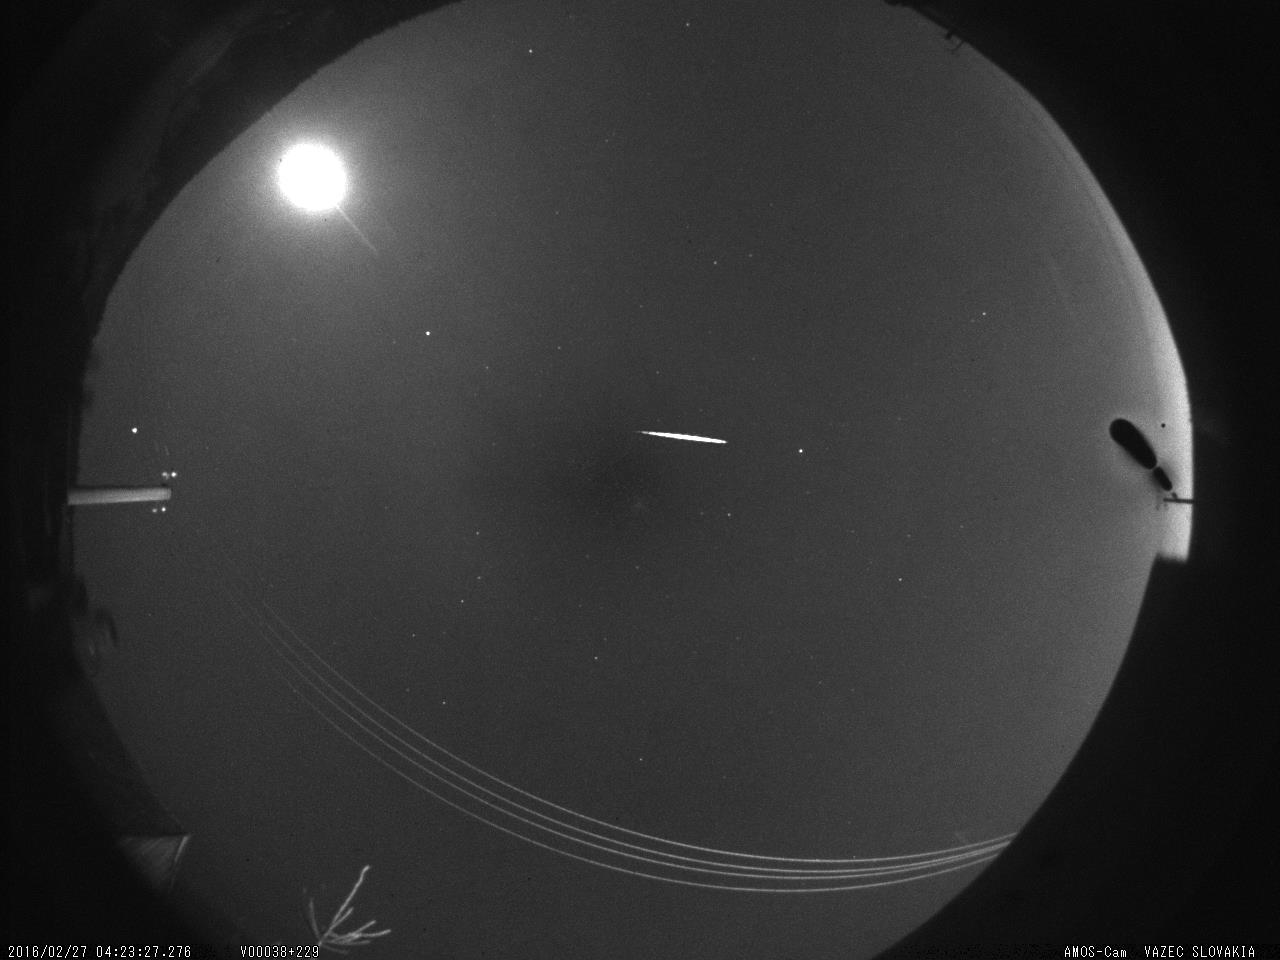meteor: (605, 398, 739, 467)
